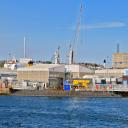submarine: (8, 78, 114, 98)
